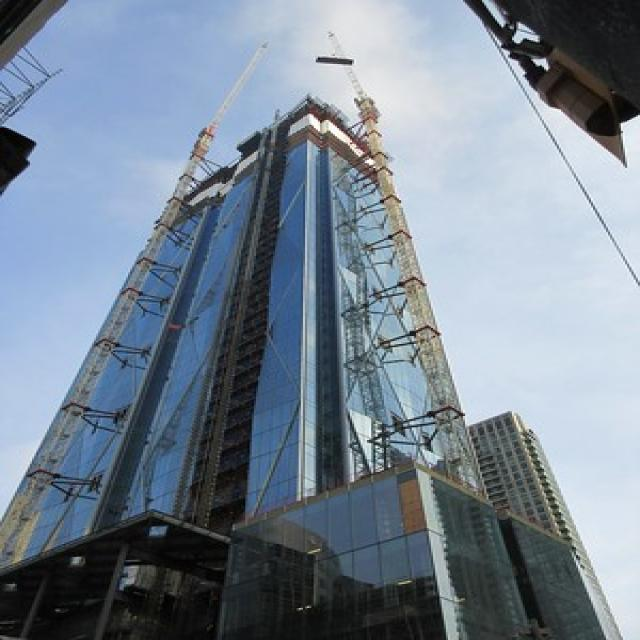building: (0, 91, 531, 635)
